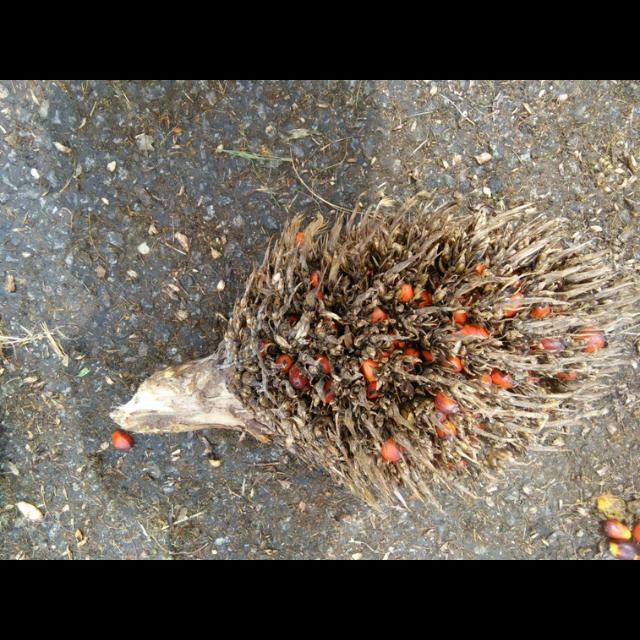Overripe: (110, 204, 610, 500)
